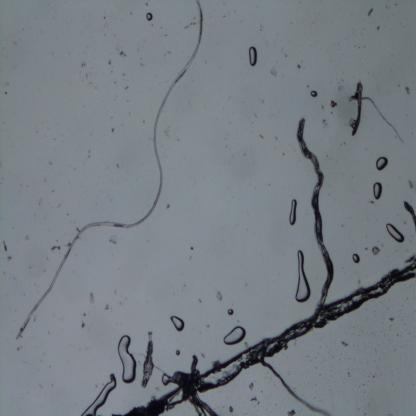Air bubble: (80, 374, 116, 414), (294, 250, 312, 304), (117, 333, 136, 384), (223, 325, 245, 345), (386, 222, 405, 244), (374, 156, 389, 171), (249, 46, 258, 70), (170, 316, 184, 331), (290, 200, 298, 226), (350, 251, 361, 265), (310, 88, 318, 99), (146, 12, 153, 21), (227, 308, 234, 316), (175, 350, 181, 356)
Background material: (245, 381, 264, 403), (107, 231, 118, 246), (184, 16, 196, 29), (370, 243, 380, 258), (295, 60, 304, 75), (286, 407, 300, 416), (269, 65, 278, 78), (88, 291, 96, 305), (120, 81, 130, 92), (106, 52, 112, 70), (374, 21, 382, 34), (118, 50, 128, 60), (50, 243, 61, 252), (109, 122, 117, 134), (102, 301, 109, 313), (164, 199, 171, 211), (407, 180, 415, 190), (216, 291, 223, 302), (2, 240, 8, 252), (366, 8, 374, 17), (80, 60, 87, 70), (187, 245, 195, 252), (329, 102, 338, 108), (404, 88, 410, 94), (81, 321, 85, 330)
Cellulose filter fibre: (295, 118, 334, 314), (365, 97, 404, 144), (348, 81, 365, 137), (142, 333, 156, 389), (403, 199, 416, 227), (372, 182, 382, 200)
Edge of slide: (128, 262, 416, 416)
Microfibre: (15, 0, 203, 339)
